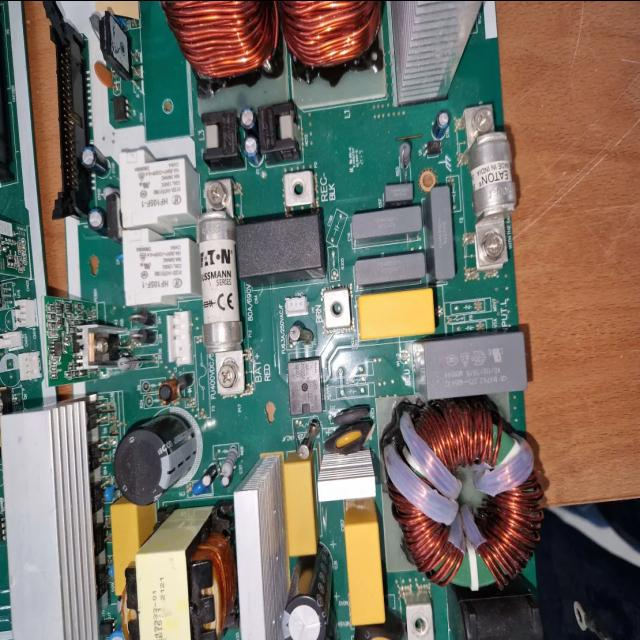A: (380, 400, 546, 590), (160, 0, 278, 84), (279, 0, 382, 79)
B: (200, 171, 246, 394), (465, 105, 517, 266)
C: (116, 413, 198, 505)
